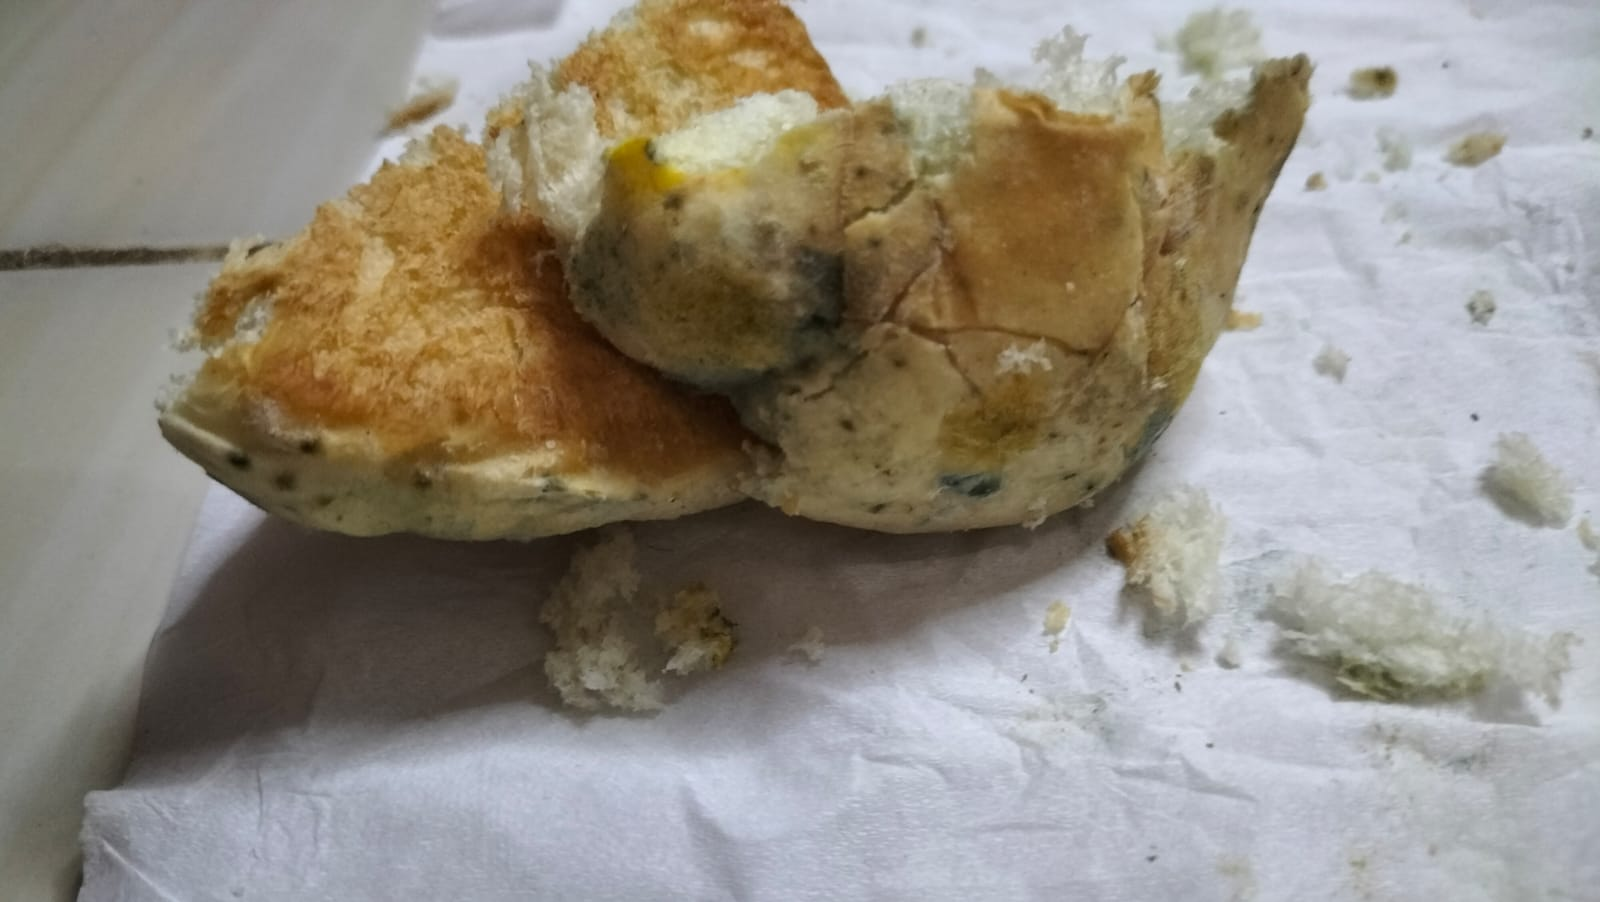mold_bread: (566, 141, 691, 343), (779, 233, 874, 371), (1111, 386, 1187, 465), (935, 461, 1012, 505), (534, 465, 574, 503), (295, 430, 333, 464), (216, 444, 253, 478), (404, 466, 440, 500), (884, 348, 916, 377), (269, 470, 299, 498), (834, 411, 862, 437), (851, 163, 871, 180)
